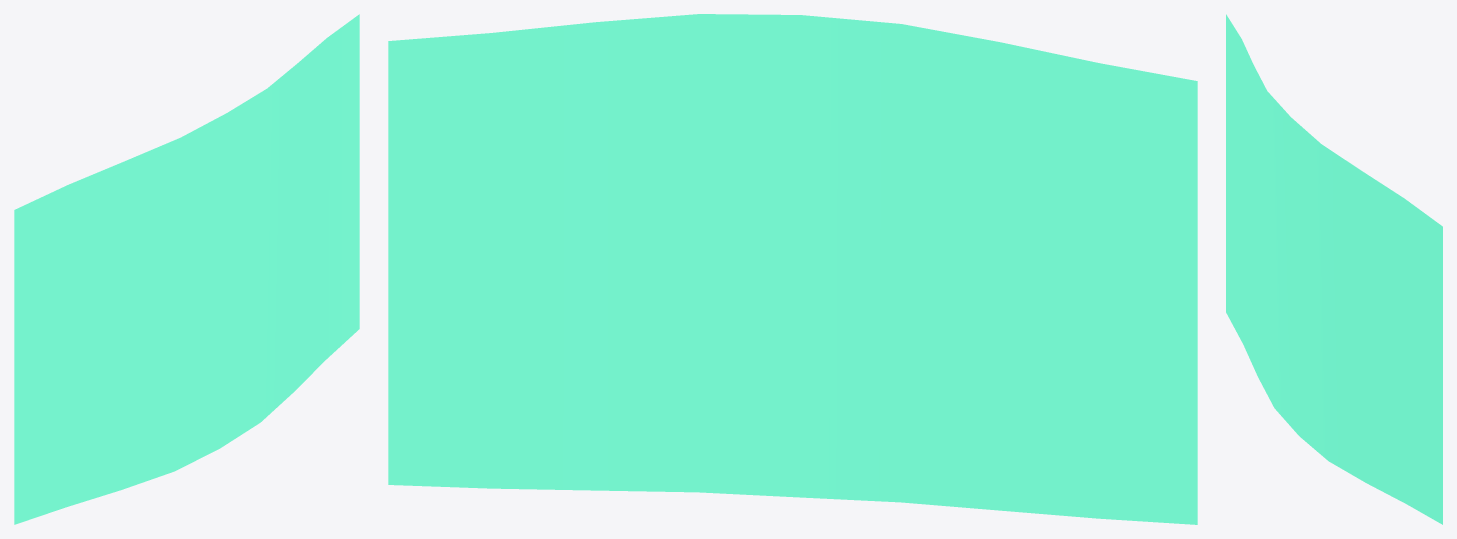
The model's file is Screen.glb.
3 renders of one model, left to right at view 1: azimuth 30°, elevation 25°; view 2: azimuth 150°, elevation 25°; view 3: azimuth 270°, elevation 25°, orthographic. The views are drawn at different scales.
Visible parts, largest first — view 1: Cube.006; view 2: Cube.006; view 3: Cube.006.
Part boxes in pixels (x1,y1,x2,y2): Cube.006: (14,14,359,524); Cube.006: (388,14,1197,524); Cube.006: (1226,14,1442,524).
Size of the model in its own units: 0.3191 by 0.2243 by 0.1376.
